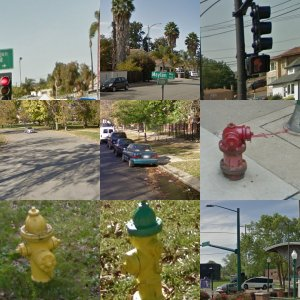公車: (14, 131, 72, 184)
汽車: (34, 54, 70, 86), (1, 54, 29, 78)
消防栓: (151, 26, 193, 99)
紅綠燈: (137, 100, 171, 189), (241, 129, 266, 154)
行人穿越道: (200, 212, 295, 300), (1, 235, 98, 275), (99, 229, 150, 300)
